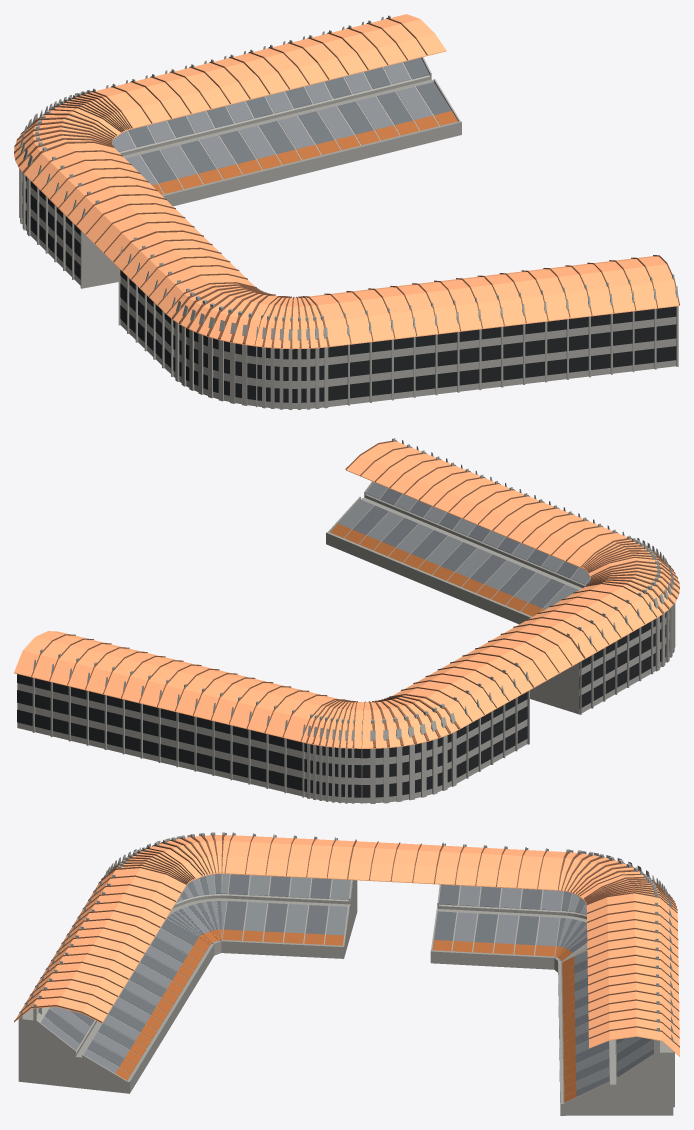
The model's file is mex_stadium_c.glb.
3 views of the same model, one above another, from view 1: azimuth 30°, elevation 25°; view 2: azimuth 150°, elevation 25°; view 3: azimuth 270°, elevation 25° (orthographic). The views are drawn at different scales.
Visible parts, largest first — view 1: mexico-city-stadium; view 2: mexico-city-stadium; view 3: mexico-city-stadium.
Boxes of the visible parts, x1,y1,x2,y2 form: mexico-city-stadium: (14,14,679,409); mexico-city-stadium: (14,438,679,803); mexico-city-stadium: (14,832,679,1115).
Bounding box in the file's own units: 159 × 27.95 × 209.
